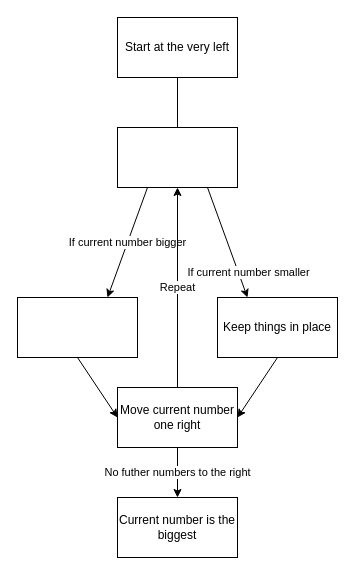
Image size: 355x575. Some labels were removed from this diagram. Each missing label, with the box of its shape:
Compare current number with one to the right: (116, 126, 238, 188)
Exchange both numbers: (16, 296, 138, 358)
